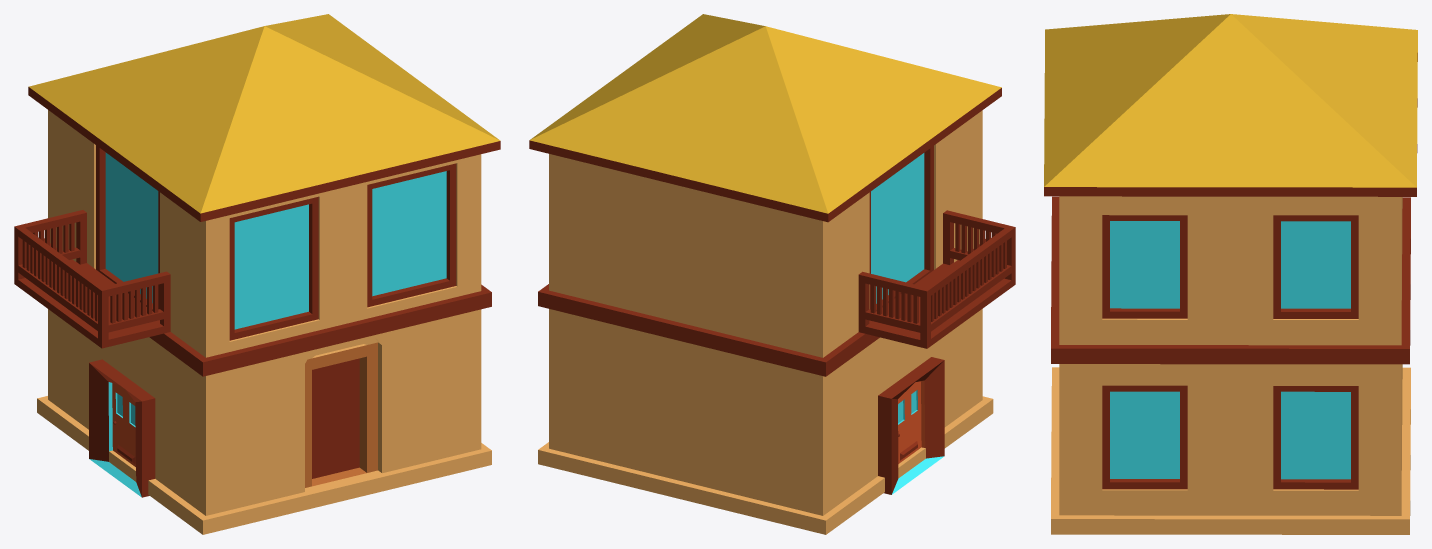
The model's file is Building1.fbx.
3 views of the same model, side by side, from view 1: azimuth 30°, elevation 25°; view 2: azimuth 150°, elevation 25°; view 3: azimuth 270°, elevation 25° (orthographic). The views are drawn at different scales.
Visible parts, largest first — view 1: Roof, Walls_Lower, Building, windows, Balcony, windows above door, edges, Balcony Window, door, Door Outline.001, Edge2, Door2 (+4 smaller); view 2: Building, Walls_Lower, Roof, Balcony, edges, Balcony Window, Door Outline.001, Edge2, Balcony window, Door2.002, Door.001; view 3: Roof, Building, Walls_Lower, windows, edges, Windows bottom, Window edges up, Edge2.
Boxes of the visible parts, x1=… form: Roof: x1=29, y1=14, x2=500, y2=213; Walls_Lower: x1=48, y1=309, x2=481, y2=515; Building: x1=37, y1=110, x2=491, y2=534; windows: x1=234, y1=171, x2=446, y2=329; Balcony: x1=14, y1=210, x2=170, y2=348; windows above door: x1=229, y1=163, x2=456, y2=340; edges: x1=44, y1=238, x2=491, y2=376; Balcony Window: x1=105, y1=152, x2=158, y2=303; door: x1=312, y1=358, x2=359, y2=478; Door Outline.001: x1=89, y1=359, x2=155, y2=497; Edge2: x1=28, y1=87, x2=500, y2=221; Door2: x1=305, y1=342, x2=377, y2=487; Building: x1=538, y1=110, x2=993, y2=534; Walls_Lower: x1=549, y1=309, x2=982, y2=515; Roof: x1=530, y1=14, x2=1001, y2=213; Balcony: x1=858, y1=210, x2=1015, y2=348; edges: x1=538, y1=239, x2=985, y2=376; Balcony Window: x1=871, y1=153, x2=924, y2=303; Door Outline.001: x1=878, y1=357, x2=944, y2=494; Edge2: x1=529, y1=88, x2=1001, y2=222; Balcony window: x1=869, y1=146, x2=933, y2=310; Door2.002: x1=898, y1=380, x2=925, y2=463; Door.001: x1=892, y1=390, x2=943, y2=494; Roof: x1=1044, y1=14, x2=1417, y2=187; Building: x1=1051, y1=196, x2=1410, y2=534; Walls_Lower: x1=1059, y1=364, x2=1402, y2=515; windows: x1=1110, y1=221, x2=1350, y2=479; edges: x1=1051, y1=196, x2=1410, y2=364; Windows bottom: x1=1102, y1=385, x2=1358, y2=489; Window edges up: x1=1102, y1=215, x2=1358, y2=318; Edge2: x1=1044, y1=53, x2=1417, y2=196.
Size of the model in its own units: 6484 by 7195 by 5464.
